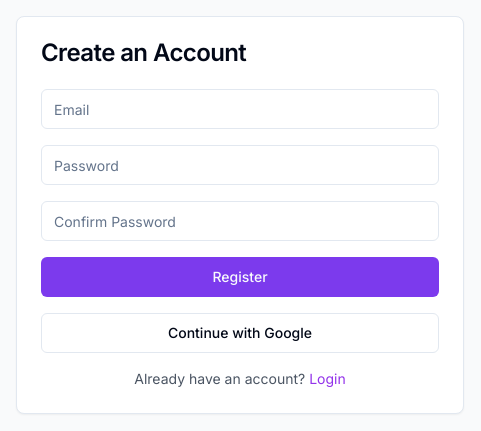
Scenario: RegisterPage › disables button during registration
This screenshot has width=481, height=431.
Type "test@example.com" into the field with placeholder "Email" at point(240, 109), box [41,89,439,129]
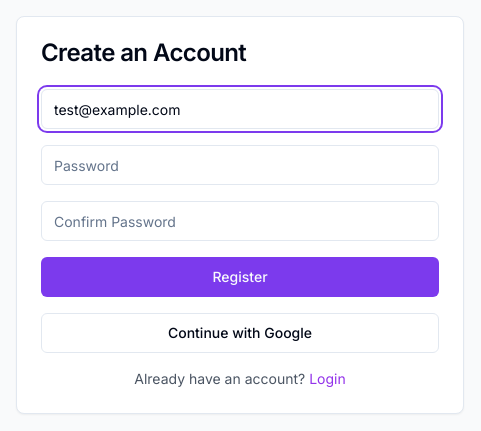
Type "password123" into the password field with placeholder "Password" at point(240, 165), box [41,145,439,185]
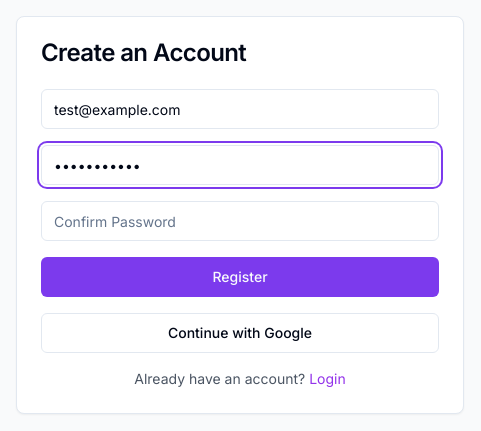
Type "password123" into the password field with placeholder "Confirm Password" at point(240, 221), box [41,201,439,241]
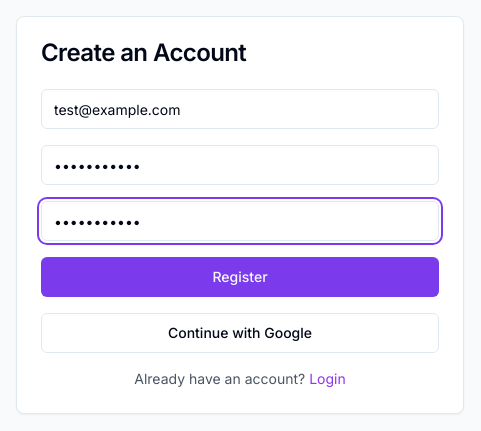
Click the button "Register" at point(240, 277), box [41,257,439,297]
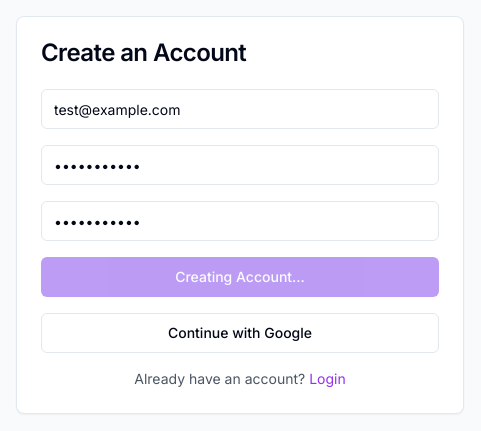
Check: the button named "register" is disabled, box [41,257,439,297]
